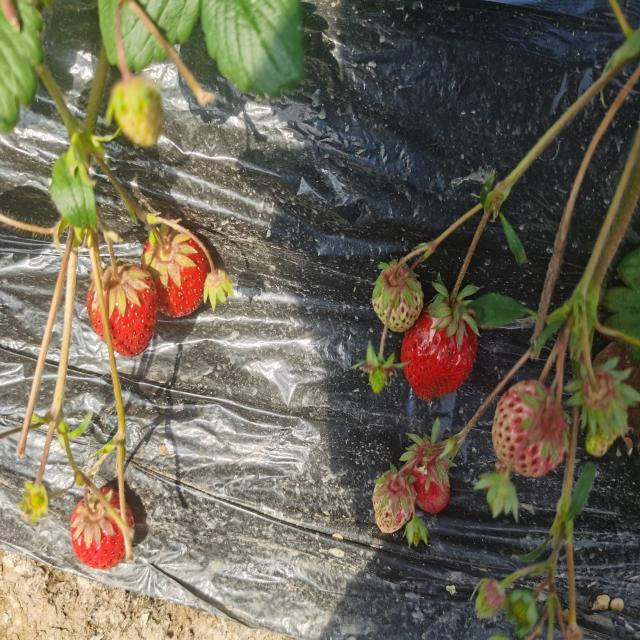stem: (447, 254, 472, 310), (151, 227, 169, 259), (109, 247, 120, 280), (84, 486, 95, 518)
strawberry: (401, 300, 478, 403), (141, 227, 208, 315), (103, 261, 157, 357), (71, 493, 125, 569), (407, 449, 450, 512), (87, 279, 105, 344), (100, 486, 120, 515), (126, 502, 135, 527)
